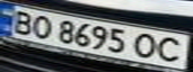5: (109, 26, 130, 55)
6: (72, 20, 93, 48)
8: (51, 17, 78, 45)
9: (87, 24, 109, 52)
B: (3, 8, 39, 35)
C: (151, 34, 190, 64)
O: (130, 31, 163, 60), (27, 12, 57, 39)
